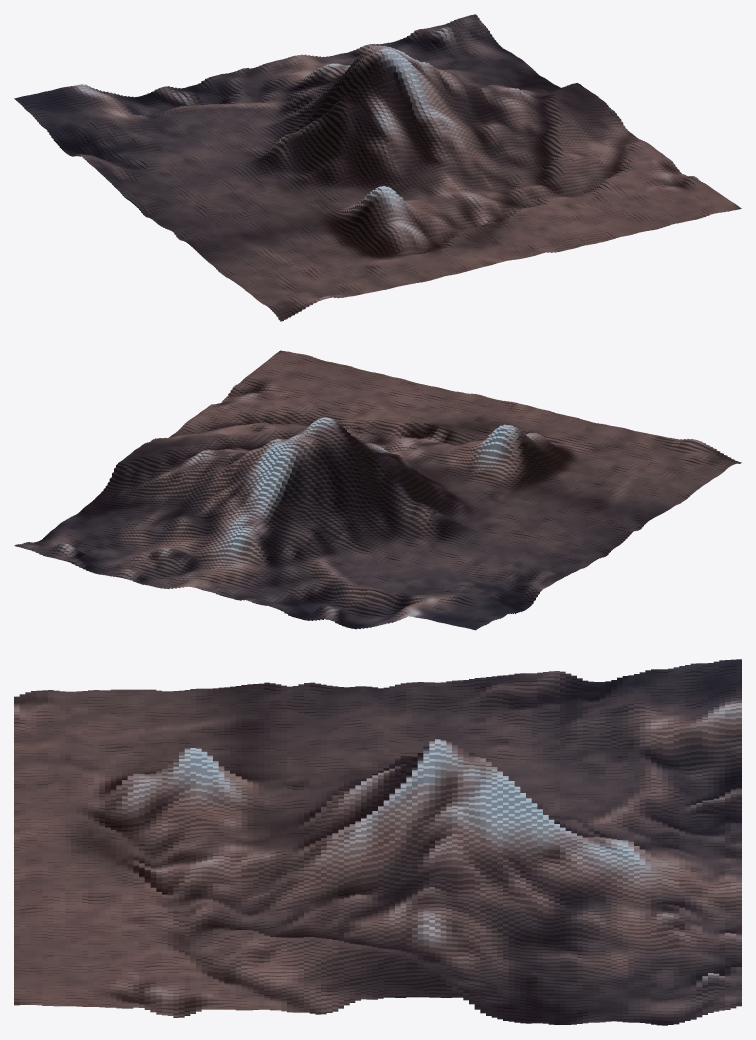
The model's file is chunk-33.glb.
3 views of the same model, one above another, from view 1: azimuth 30°, elevation 25°; view 2: azimuth 150°, elevation 25°; view 3: azimuth 270°, elevation 25° (orthographic). The views are drawn at different scales.
Visible parts, largest first — view 1: Mesh_0.049; view 2: Mesh_0.049; view 3: Mesh_0.049.
Boxes of the visible parts, bbox=[...] form: Mesh_0.049: bbox=[14, 14, 741, 321]; Mesh_0.049: bbox=[14, 350, 741, 630]; Mesh_0.049: bbox=[14, 659, 741, 1025].
Size of the model in its own units: 32000 by 7248 by 32000.
